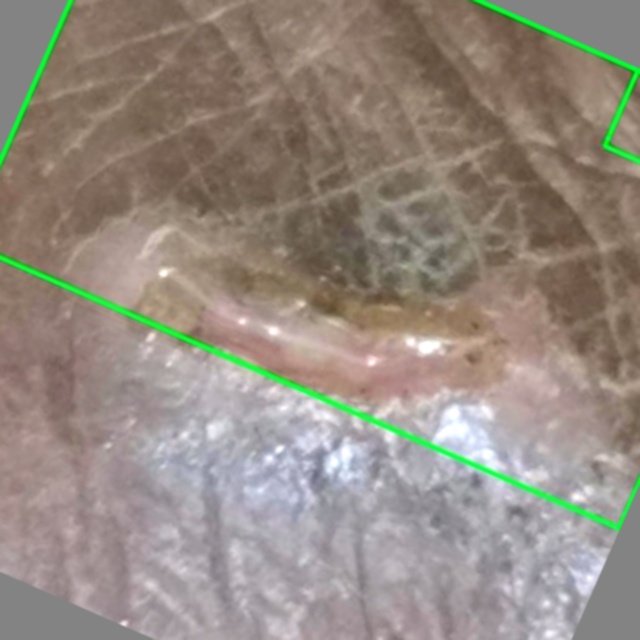Eczema: (0, 0, 639, 528)
